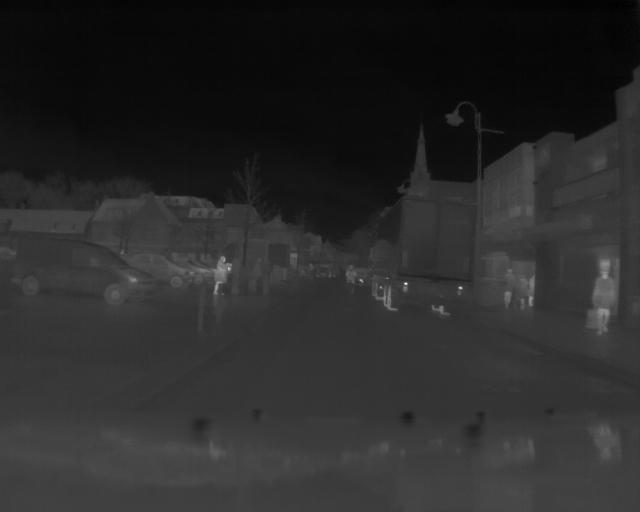car: (12, 235, 159, 308), (125, 253, 207, 295)
person: (590, 262, 613, 337), (213, 254, 227, 302), (346, 262, 359, 303), (502, 267, 513, 310), (520, 271, 527, 311)
